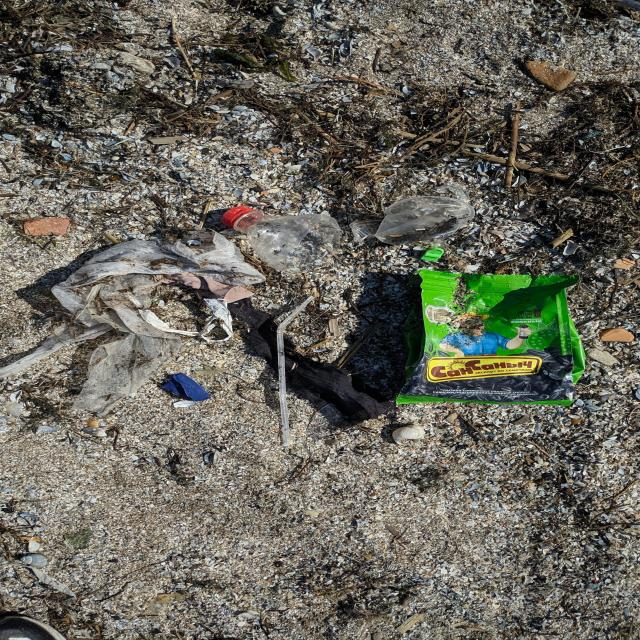litter: (396, 270, 590, 406), (52, 228, 267, 343), (219, 198, 476, 275)
